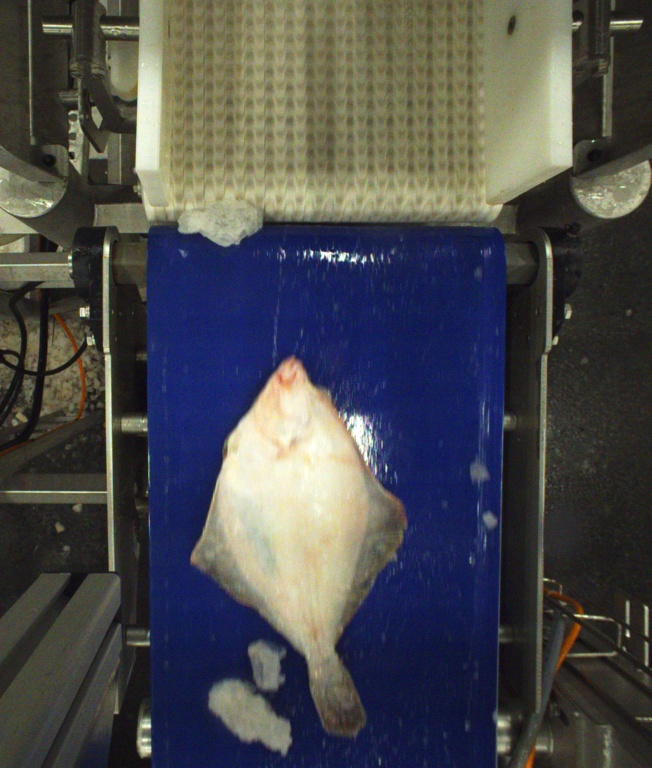PLE: (189, 356, 407, 738)
